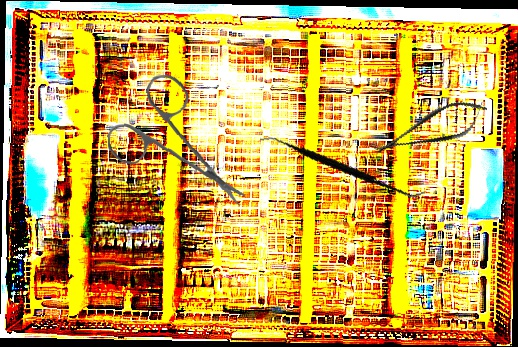Iris Scissors: (103, 69, 246, 215)
Micro Scissor: (368, 91, 494, 167)
Spatula Surgical: (259, 108, 426, 224)
